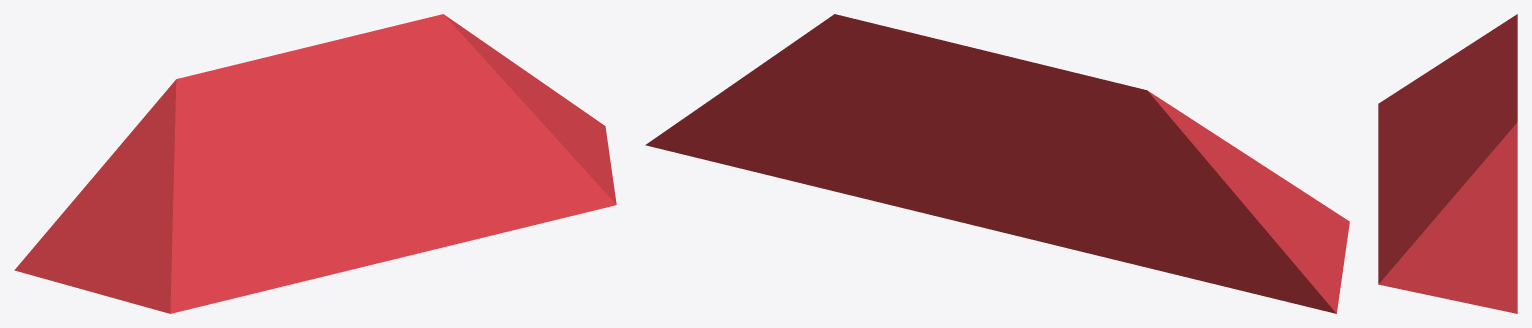
Rendered from bay_roof.glb.
3 views of the same model, side by side, from view 1: azimuth 30°, elevation 25°; view 2: azimuth 150°, elevation 25°; view 3: azimuth 270°, elevation 25° (orthographic). The views are drawn at different scales.
Visible parts, largest first — view 1: bay_roof; view 2: bay_roof; view 3: bay_roof.
Part boxes in pixels (x1,y1,x2,y2): bay_roof: (14, 14, 616, 313); bay_roof: (645, 14, 1349, 313); bay_roof: (1378, 14, 1517, 313).
Bounding box in the file's own units: 1.22 × 0.3 × 0.3.
